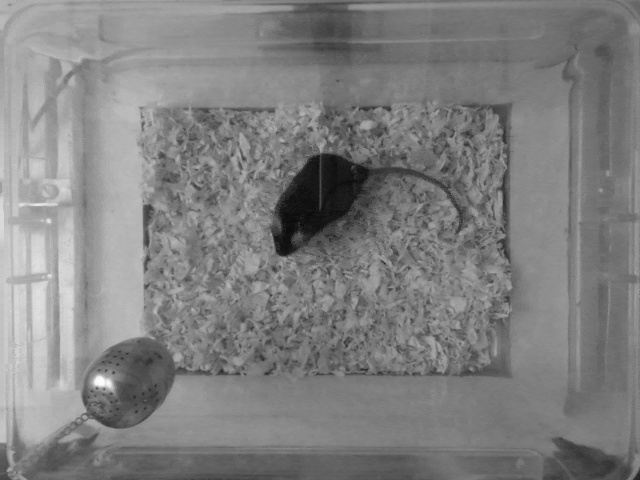mice: (268, 155, 466, 255)
